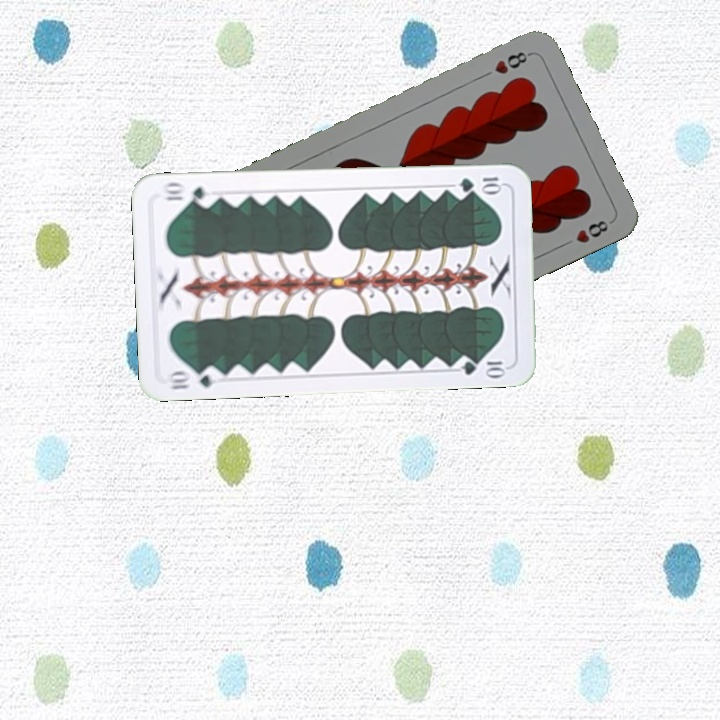G10: (163, 363, 223, 392), (456, 173, 505, 194)
H8: (490, 47, 534, 77)
